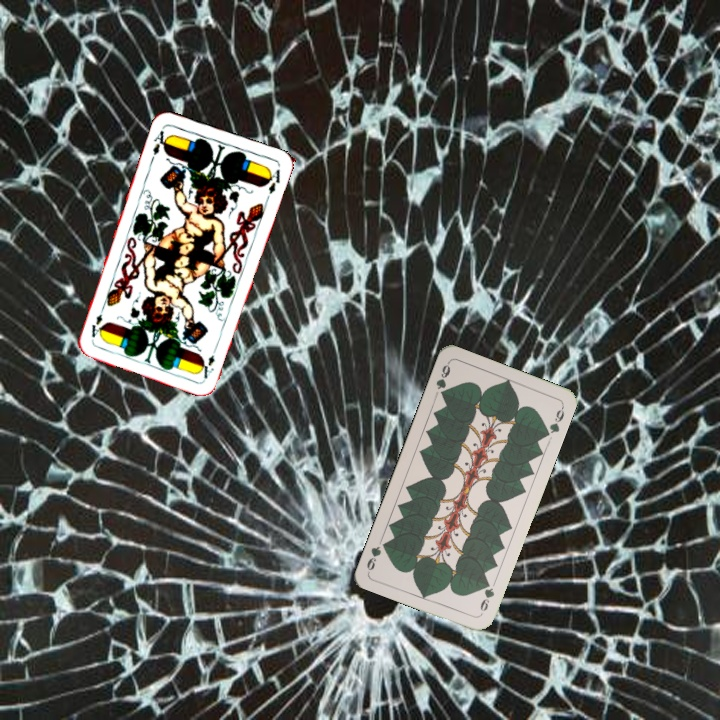EA: (196, 342, 220, 381), (149, 126, 172, 158)
G9: (432, 358, 453, 400), (476, 577, 497, 617)
